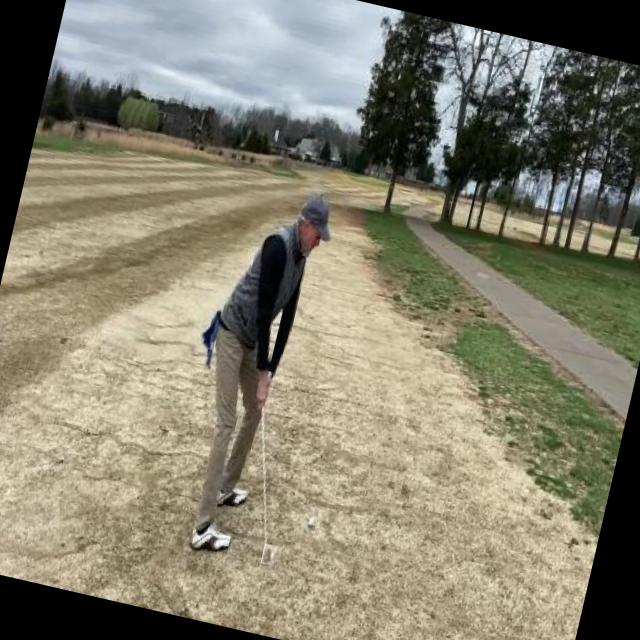club head: (260, 544, 277, 566)
